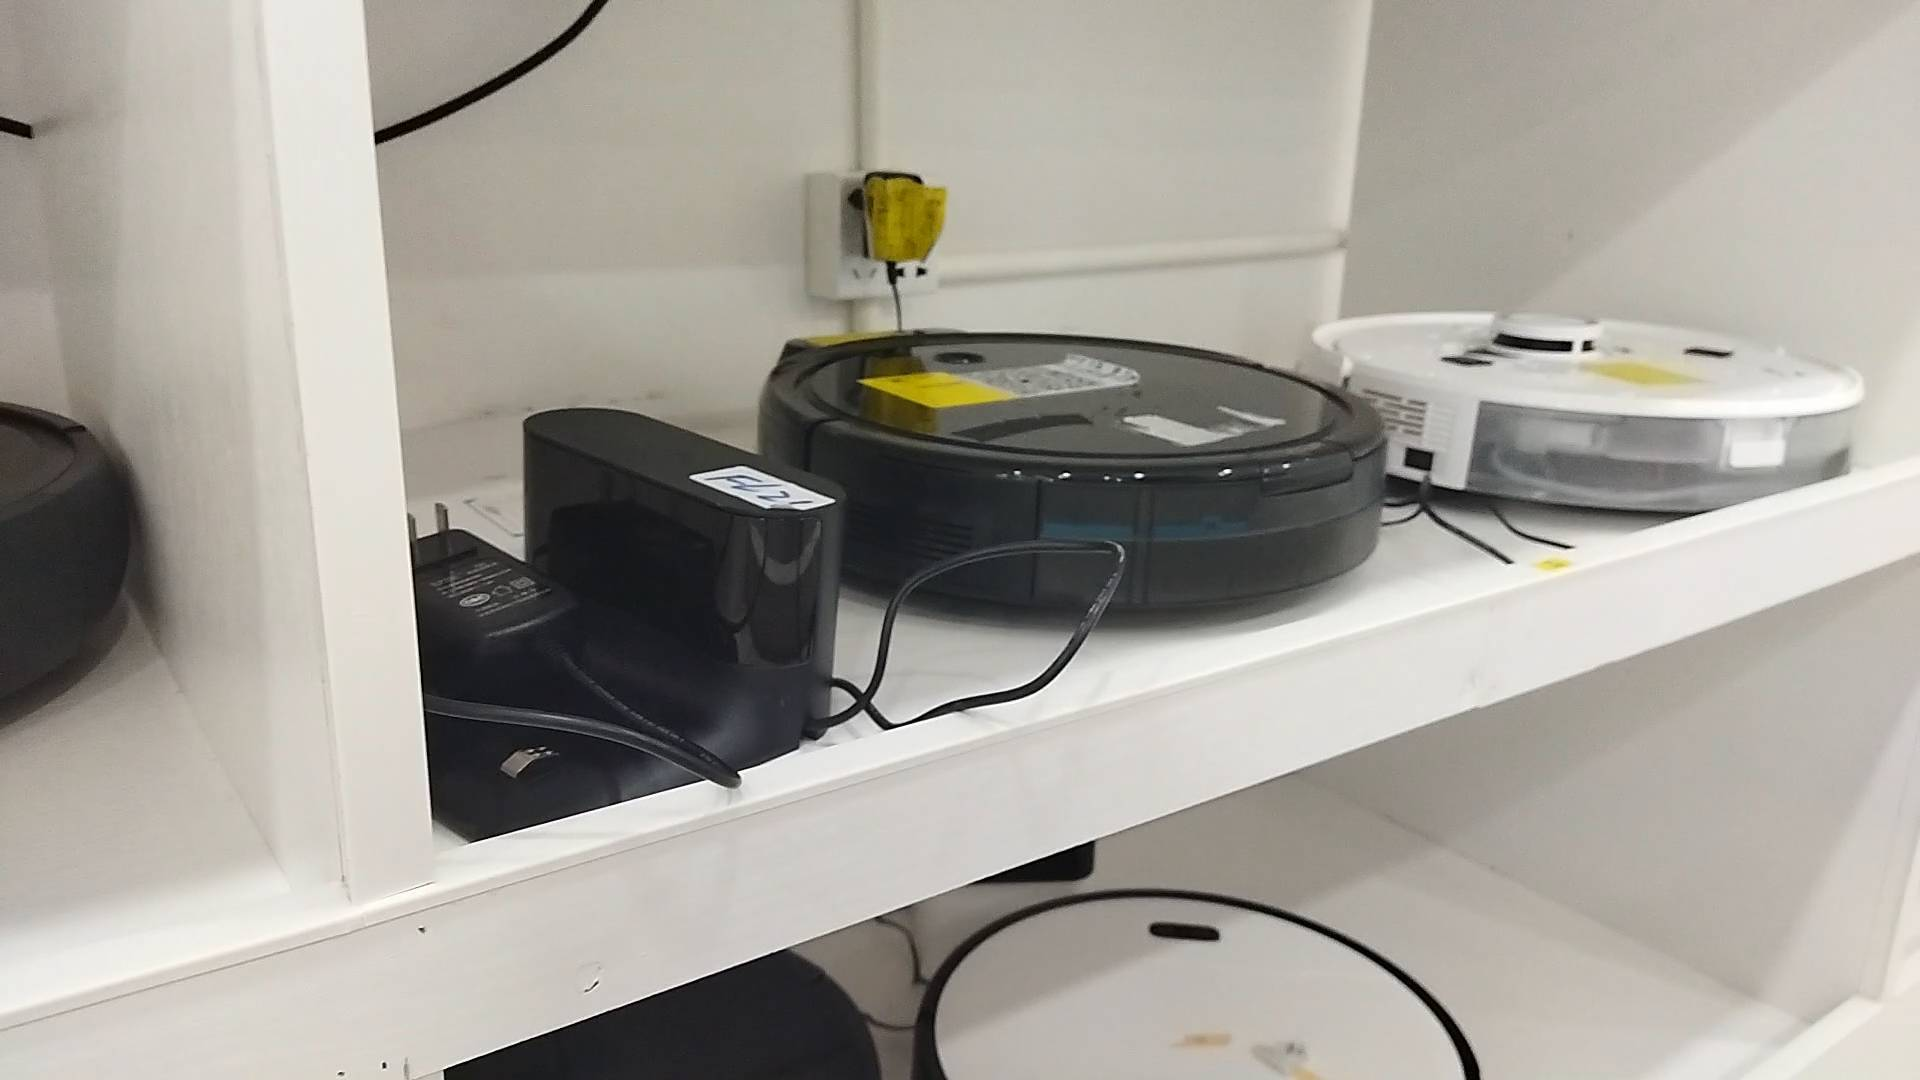recharge seat: (425, 407, 851, 844)
